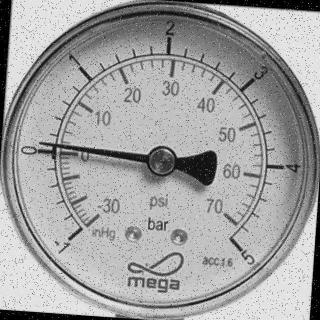gauge: (2, 1, 320, 320), (49, 208, 119, 265), (203, 218, 258, 273), (146, 144, 178, 176), (34, 136, 50, 150)
